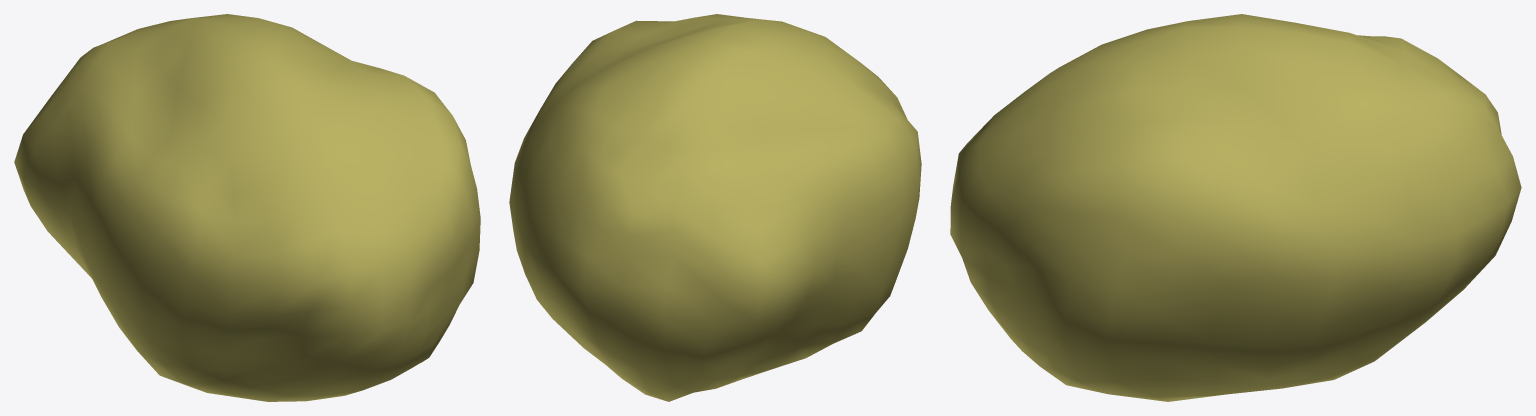
The model's file is tudou.fbx.
3 renders of one model, left to right at view 1: azimuth 30°, elevation 25°; view 2: azimuth 150°, elevation 25°; view 3: azimuth 270°, elevation 25°, orthographic. The views are drawn at different scales.
Parts seen in each view (by area): view 1: 土豆; view 2: 土豆; view 3: 土豆.
Part boxes in pixels (box(x1,y1,x2,y2)): 土豆: box(14, 14, 480, 401); 土豆: box(509, 14, 921, 401); 土豆: box(950, 14, 1521, 401).
Bounding box in the file's own units: 140 × 126 × 190.
